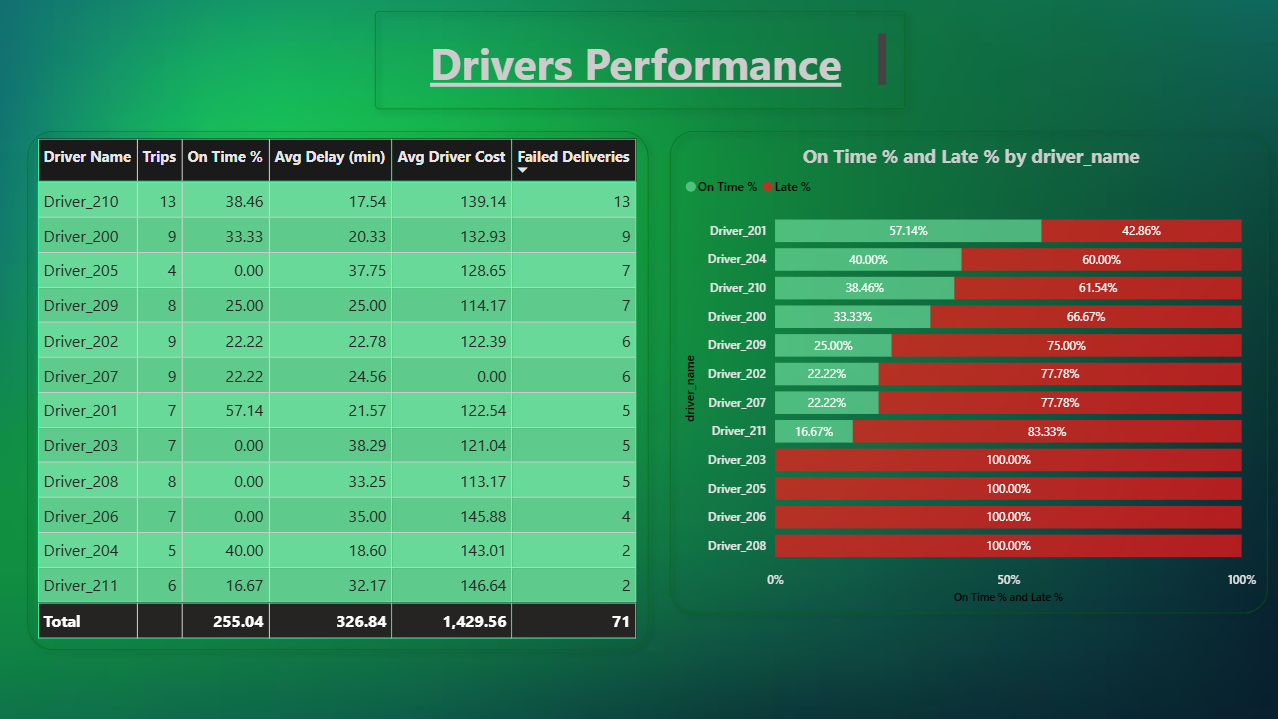

What the dashboard file says about the page in this screenshot:
{"tool":"powerbi","page":{"name":"Page 6","canvas":[1280,720],"ordinal":1},"visuals":[{"type":"shape","box":[17.2,120.2,642.9,541.1],"z":0},{"type":"shape","box":[660.1,120.2,619.6,504.3],"z":1000},{"type":"shape","box":[364.4,0,552.2,120.2],"z":2000},{"type":"tableEx","fields":{"Values":["ops v_driver_scorecard.driver_name","ops v_driver_scorecard.trips","ops v_driver_scorecard.on_time_pct","ops v_driver_scorecard.avg_delay_min","ops v_driver_scorecard.avg_driver_cost","ops v_driver_scorecard.failed_deliveries"]},"box":[31.9,133.7,612.3,516.6],"z":3000},{"type":"hundredPercentStackedBarChart","fields":{"Category":["ops v_driver_scorecard.driver_name"],"Y":["_ Measures.On Time %","_ Measures.Late %"]},"box":[681,142.3,581.6,466.3],"z":4000},{"type":"textbox","box":[389,28.2,503.1,63.8],"z":5000}]}

Visuals, with their boxes in screenshot pixels (x1, y1, x2, y2), scaled from the page's 1280x720 canvas onto the 1278x719 screenshot:
shape: 17/120/659/660
shape: 659/120/1277/624
shape: 364/0/915/120
tableEx - ops v_driver_scorecard.driver_name x ops v_driver_scorecard.trips: 32/134/643/649
hundredPercentStackedBarChart - ops v_driver_scorecard.driver_name x _ Measures.On Time %: 680/142/1261/608
textbox: 388/28/891/92
